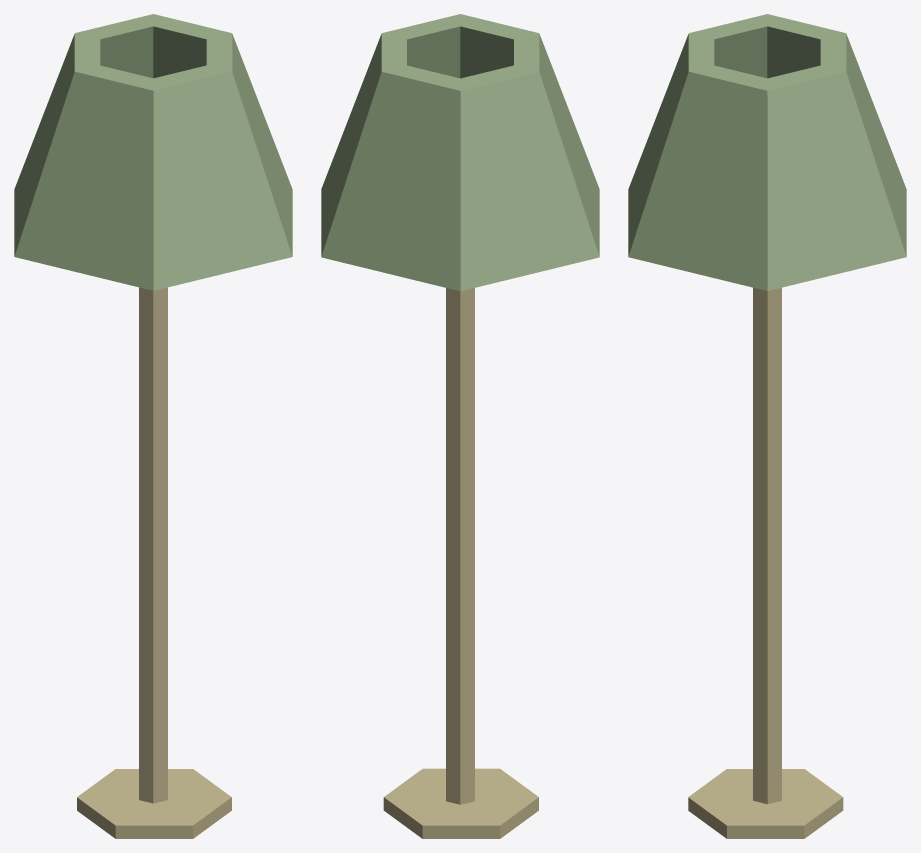
File: geo_FloorLamp_01.fbx
3 views of the same model, side by side, from view 1: azimuth 30°, elevation 25°; view 2: azimuth 150°, elevation 25°; view 3: azimuth 270°, elevation 25° (orthographic).
Visible parts, largest first — view 1: geo_lampShade_01, geo_lampPole_01, geo_lampbase_01; view 2: geo_lampShade_01, geo_lampPole_01, geo_lampbase_01; view 3: geo_lampShade_01, geo_lampPole_01, geo_lampbase_01.
Boxes of the visible parts, left/top/right/bottom form: geo_lampShade_01: left=14, top=14, right=292, bottom=290; geo_lampPole_01: left=139, top=287, right=167, bottom=803; geo_lampbase_01: left=77, top=769, right=231, bottom=838; geo_lampShade_01: left=321, top=14, right=599, bottom=291; geo_lampPole_01: left=446, top=288, right=474, bottom=804; geo_lampbase_01: left=383, top=768, right=538, bottom=838; geo_lampShade_01: left=628, top=14, right=906, bottom=290; geo_lampPole_01: left=753, top=287, right=781, bottom=804; geo_lampbase_01: left=688, top=769, right=843, bottom=838.
Bounding box in the file's own units: 32.24 × 83.92 × 27.92.
